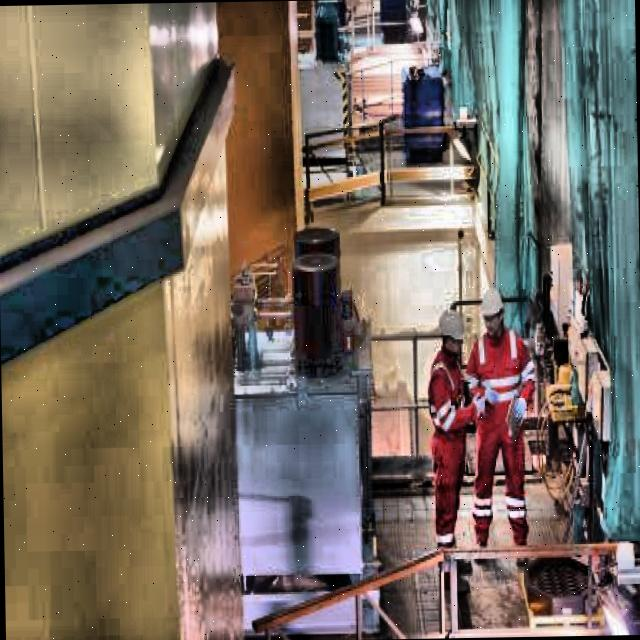helmet: (477, 284, 509, 340), (438, 302, 464, 358)
